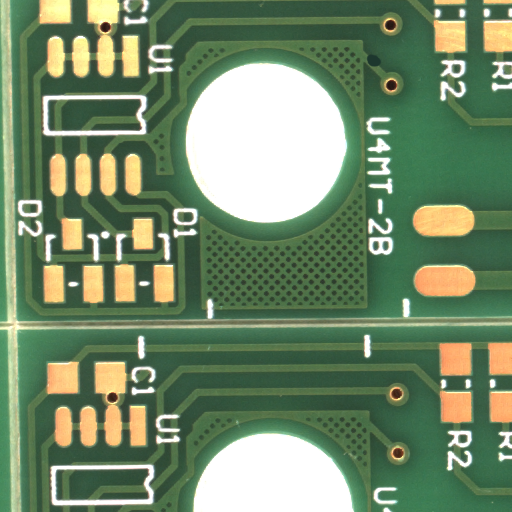Mouse_bite: (374, 60, 389, 73)
